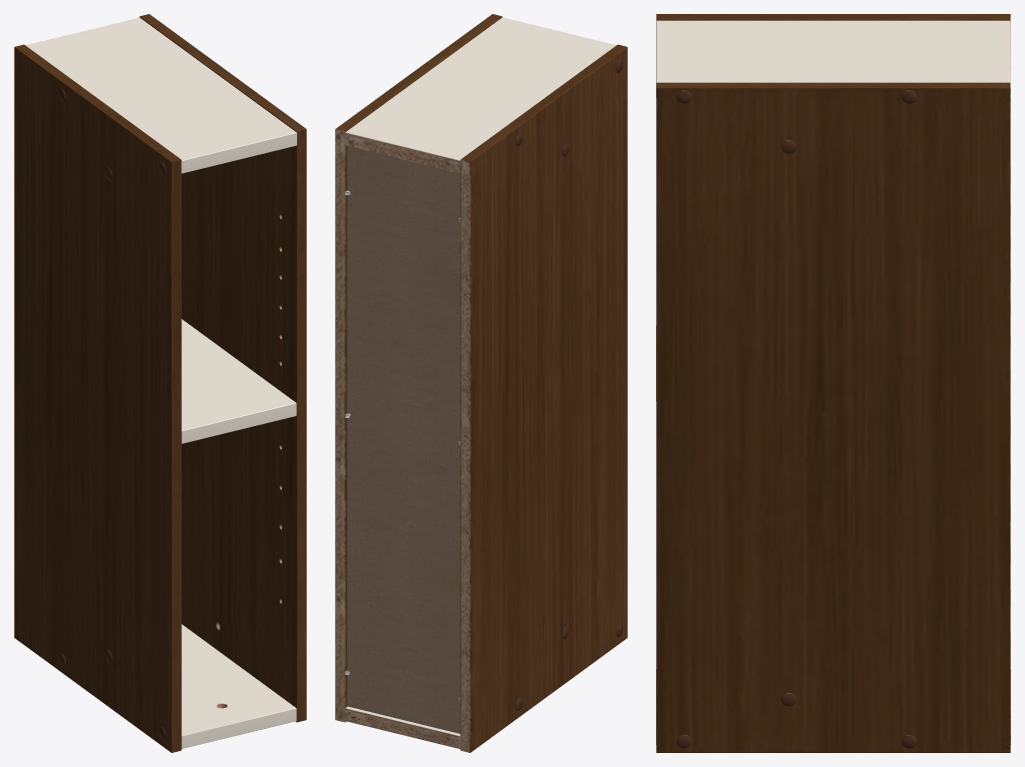
File: B07TZ9BMJG.glb
3 views of the same model, side by side, from view 1: azimuth 30°, elevation 25°; view 2: azimuth 150°, elevation 25°; view 3: azimuth 270°, elevation 25° (orthographic). The views are drawn at different scales.
Visible parts, largest first — view 1: RootNode; view 2: RootNode; view 3: RootNode.
Boxes of the visible parts, left/top/right/bottom form: RootNode: left=14, top=14, right=306, bottom=752; RootNode: left=335, top=14, right=627, bottom=752; RootNode: left=656, top=14, right=1010, bottom=752.
Size of the model in its own units: 0.147 by 0.6 by 0.29.
1 material, 1 textured.
